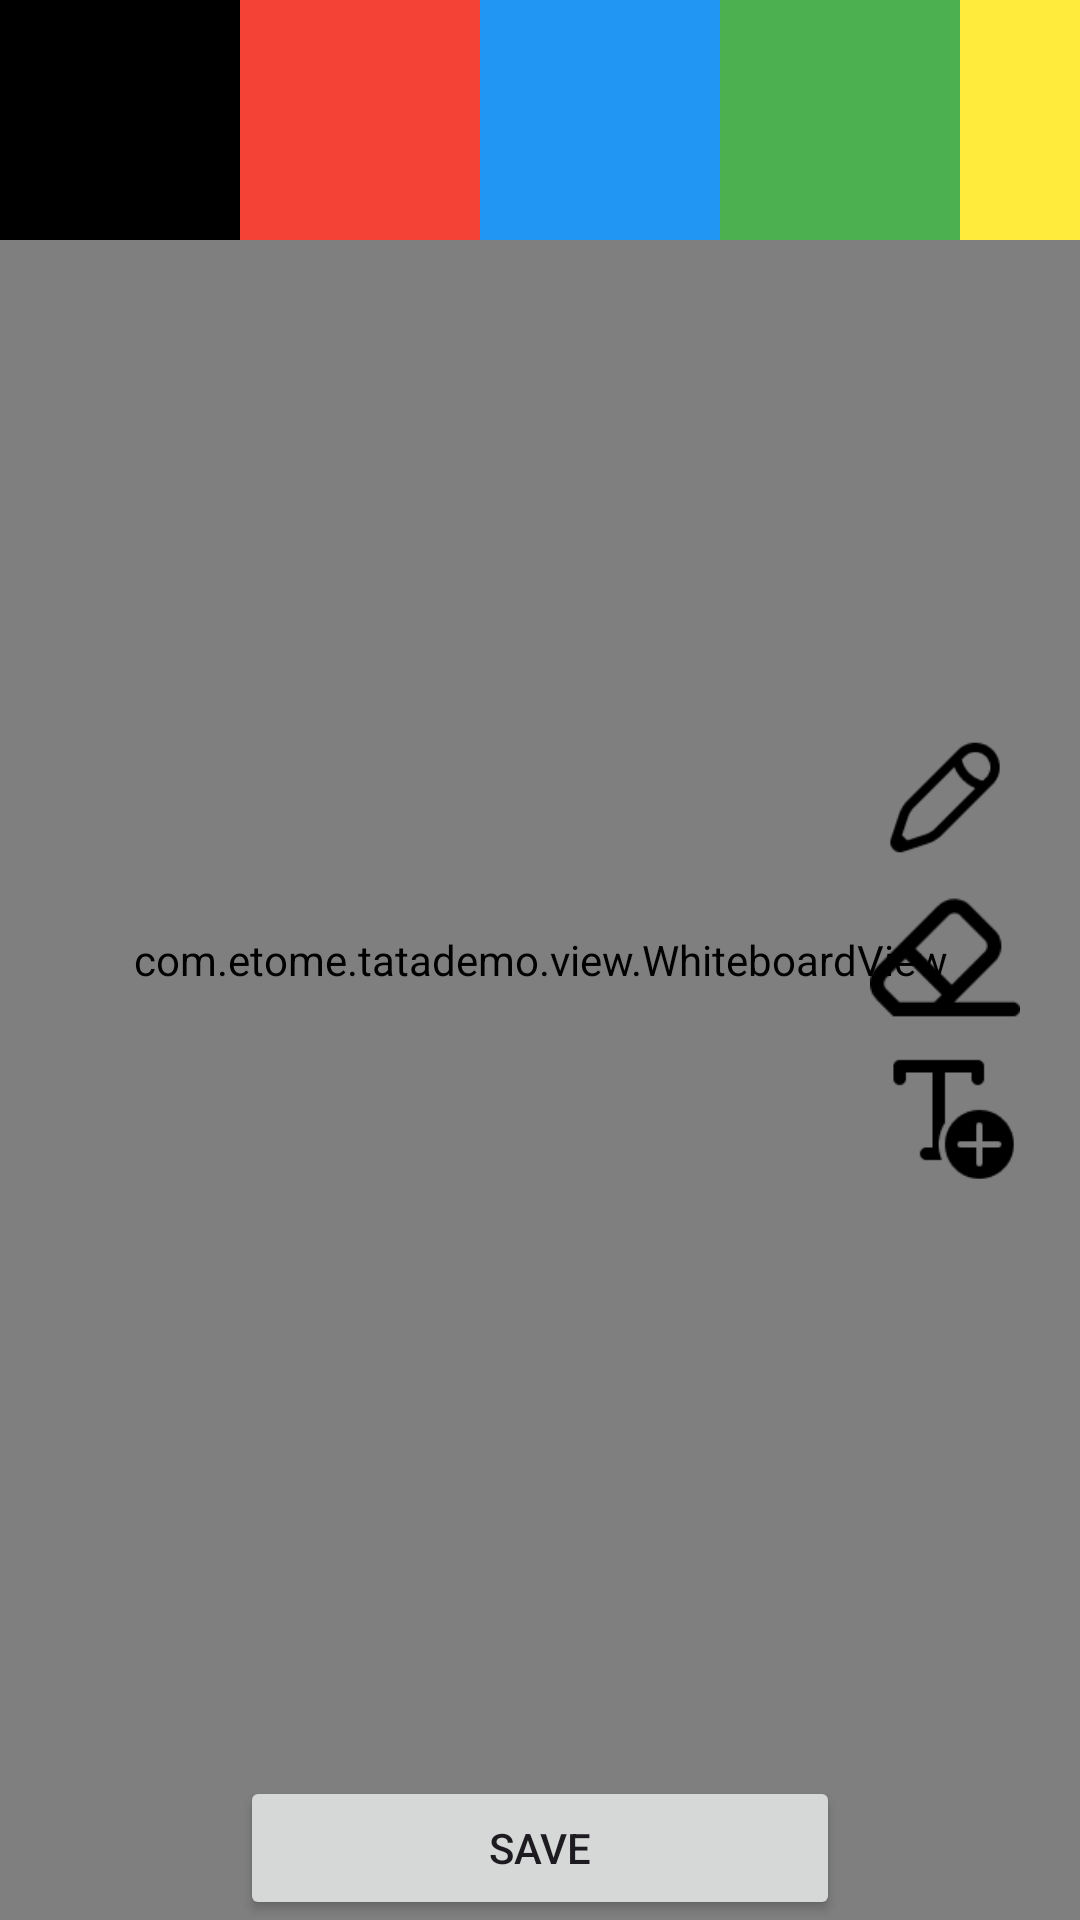

Icons on this 1080px x 1920px Android screen, each with its box as (x1, y1, x2, y2):
eraser: (870, 898, 1020, 1017)
pencil: (890, 742, 1000, 853)
textadd: (893, 1060, 1014, 1179)
